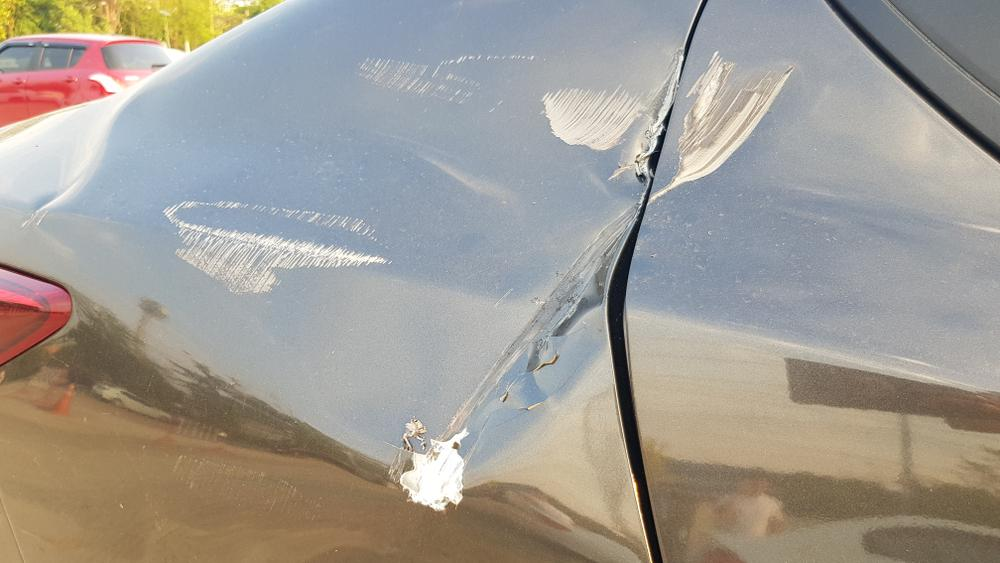dent: (31, 0, 705, 505)
scratch: (646, 48, 798, 204)
